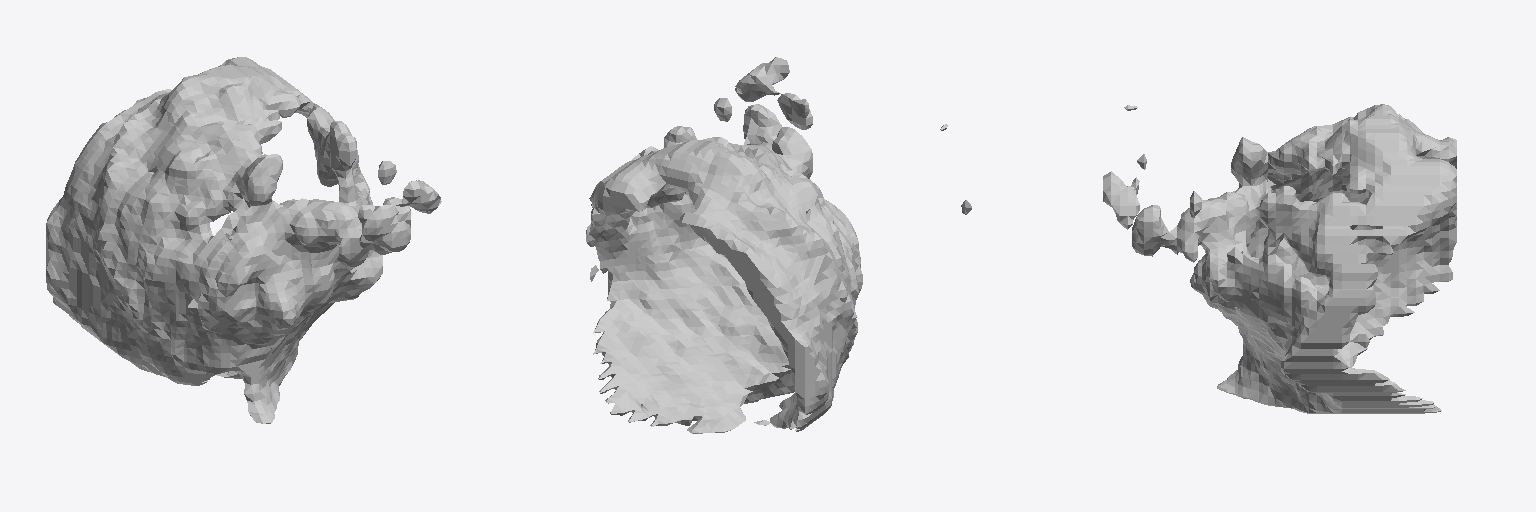
Rendered from B939XXXX-1_valve_1.obj.
The picture shows the model from 3 angles: view 1: azimuth 30°, elevation 25°; view 2: azimuth 150°, elevation 25°; view 3: azimuth 270°, elevation 25°; orthographic projection.
Parts seen in each view (by area): view 1: 1_valve; view 2: 1_valve; view 3: 1_valve.
Part boxes in pixels (x1,y1,x2,y2): 1_valve: (46, 57, 441, 423); 1_valve: (586, 57, 971, 433); 1_valve: (1103, 104, 1456, 413).
Bounding box in the file's own units: 76.95 × 76.97 × 85.95.